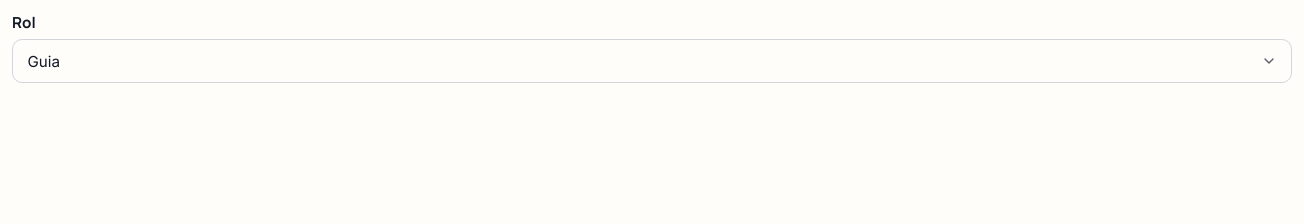
Test case: SelectField (combobox ARIA 1.2) › selecciona con el raton
Click the dropdown named "Rol": x=44, y=61 left=12, top=39, right=1292, bottom=83
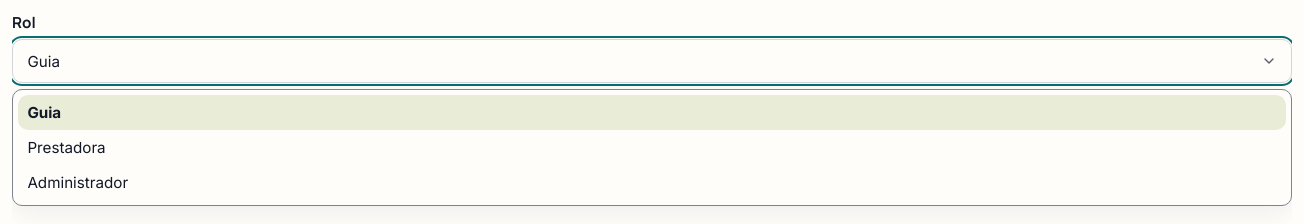
Click the option "Administrador": x=78, y=182 left=27, top=173, right=128, bottom=192
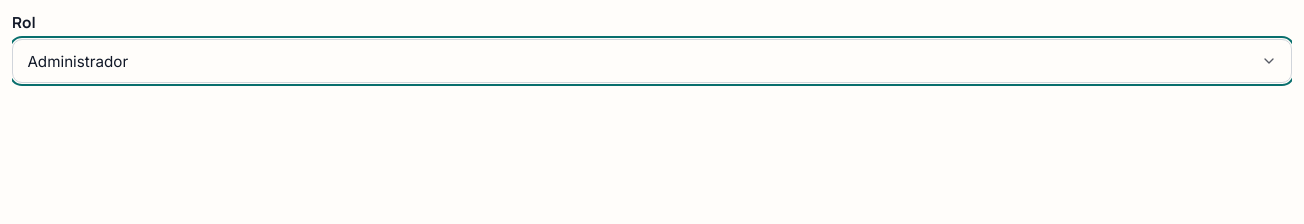
expect the dropdown named "Rol" reads "Administrador": met, box left=12, top=39, right=1292, bottom=83
